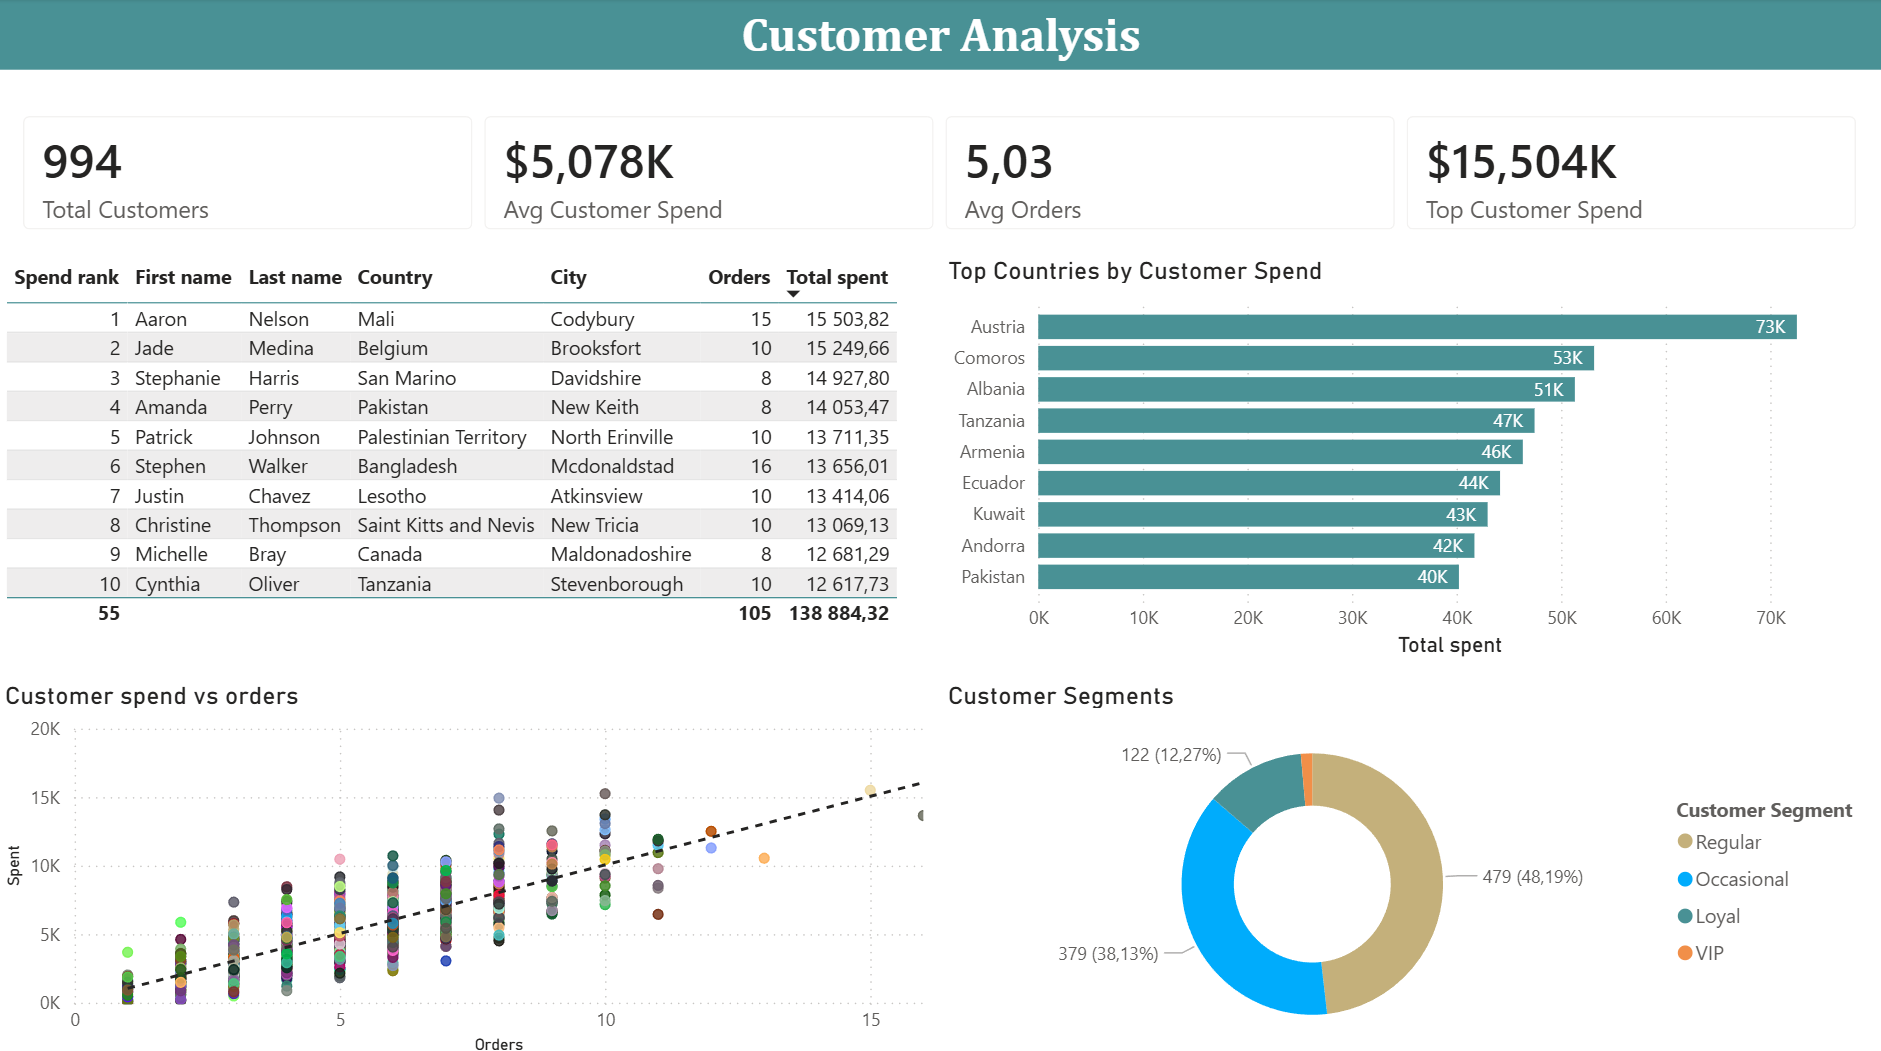

Layout of this report page (visuals, bound fields, positions):
{"tool":"powerbi","page":{"name":"Customer Analysis","canvas":[1280,720],"ordinal":1},"visuals":[{"type":"textbox","box":[0,0,1280,47.8],"z":0},{"type":"cardVisual","fields":{"Data":["top_customers.Total Customers","top_customers.Avg Customer Spend","top_customers.Avg Orders","top_customers.Top Customer Spend"]},"box":[0,62.4,1280,111.3],"z":1},{"type":"tableEx","fields":{"Values":["Sum(top_customers.spend_rank)","top_customers.first_name","top_customers.last_name","top_customers.country","top_customers.city","Sum(top_customers.total_orders)","Sum(top_customers.total_spend)"]},"box":[0,173.7,640,277.6],"z":2},{"type":"clusteredBarChart","title":"Top Countries by Customer Spend","fields":{"Category":["top_customers.country"],"Y":["Sum(top_customers.total_spend)"]},"box":[640,173.7,640,277.6],"z":3},{"type":"scatterChart","title":"Customer spend vs orders","fields":{"X":["Sum(top_customers.total_orders)"],"Y":["Sum(top_customers.total_spend)"],"Series":["top_customers.customer_id"]},"box":[0,462,640,258],"z":4},{"type":"donutChart","title":"Customer Segments","fields":{"Category":["top_customers.Customer Segment"],"Y":["CountNonNull(top_customers.customer_id)"]},"box":[640,462,640,258],"z":5}]}

Visuals, with their boxes in screenshot pixels (x1, y1, x2, y2), scaled from the page's 1280x720 canvas onto the 1881x1051 screenshot:
textbox: (left=0, top=0, right=1880, bottom=70)
cardVisual - top_customers.Total Customers x top_customers.Avg Customer Spend: (left=0, top=91, right=1880, bottom=254)
tableEx - Sum(top_customers.spend_rank) x top_customers.first_name: (left=0, top=254, right=940, bottom=659)
"Top Countries by Customer Spend" clusteredBarChart: (left=940, top=254, right=1880, bottom=659)
"Customer spend vs orders" scatterChart: (left=0, top=674, right=940, bottom=1050)
"Customer Segments" donutChart: (left=940, top=674, right=1880, bottom=1050)
